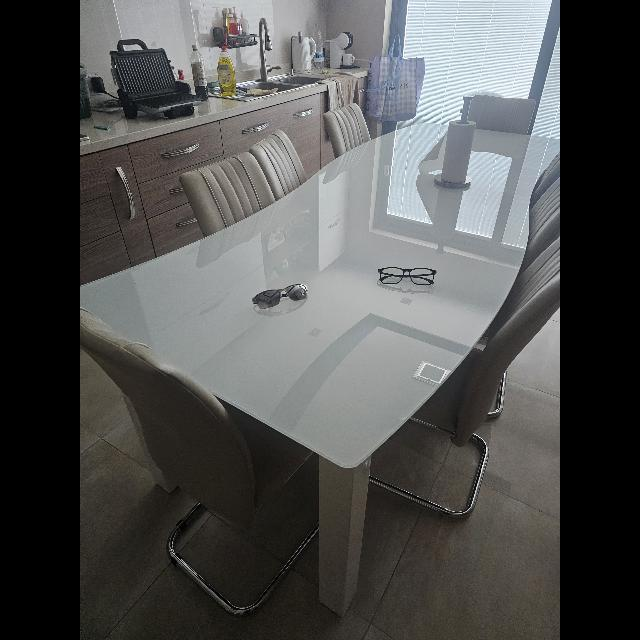Sunglasses: (252, 284, 308, 310)
glasses: (378, 267, 438, 285)
